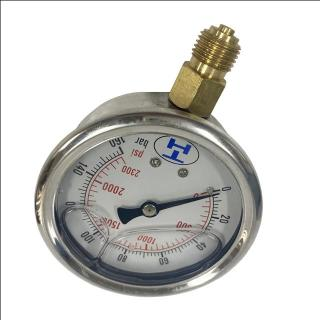gauge: (30, 109, 270, 311), (107, 138, 137, 170), (205, 178, 232, 204), (140, 200, 159, 218), (212, 188, 222, 196)
